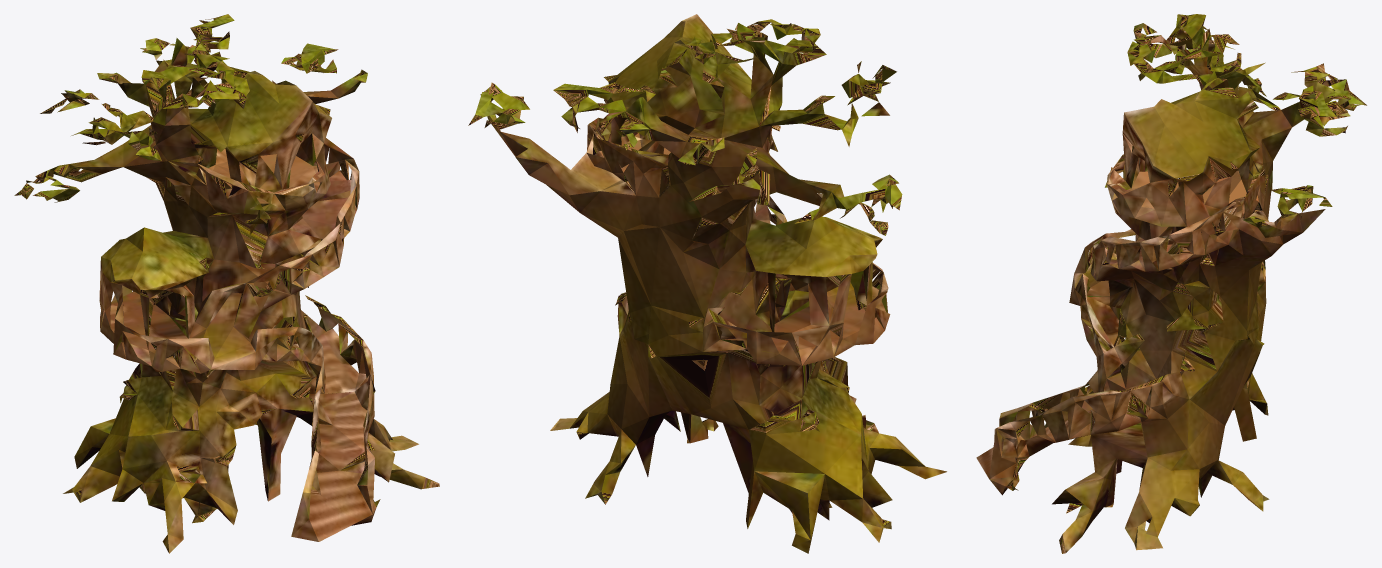
Rendered from fairy_tree_stair_1117.glb.
The picture shows the model from 3 angles, left to right: view 1: azimuth 30°, elevation 25°; view 2: azimuth 150°, elevation 25°; view 3: azimuth 270°, elevation 25°; orthographic projection. The views are drawn at different scales.
Parts seen in each view (by area): view 1: geometry_0; view 2: geometry_0; view 3: geometry_0.
Boxes of the visible parts, left/top/right/bottom form: geometry_0: left=14, top=14, right=439, bottom=553; geometry_0: left=468, top=14, right=946, bottom=553; geometry_0: left=976, top=14, right=1366, bottom=553.
Bounding box in the file's own units: 0.8742 × 1 × 0.8308.
1 material, 1 textured.
